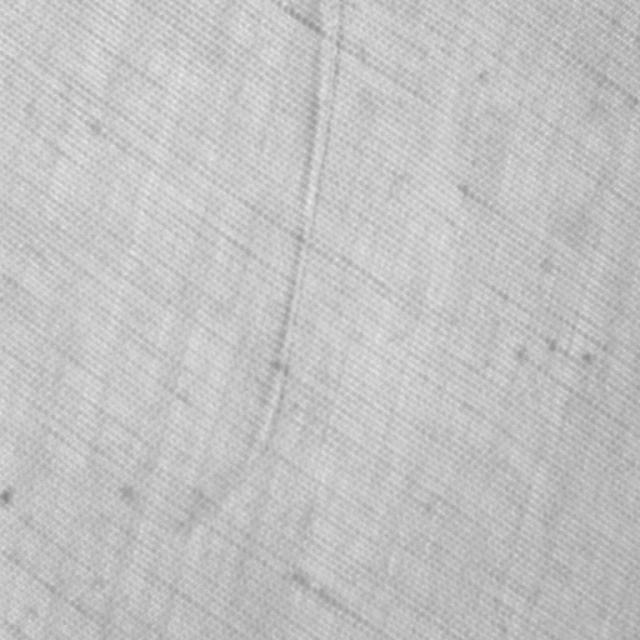objects: (240, 0, 348, 470)
